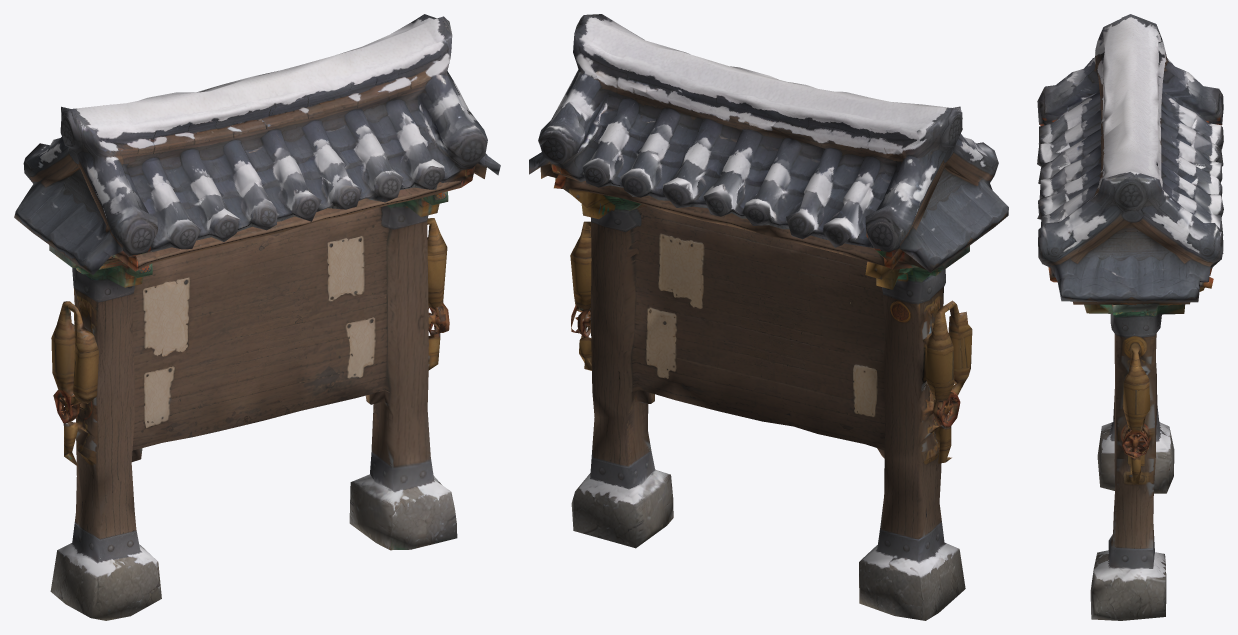
File: PR_GwaeseoBoard_02.fbx
3 renders of one model, left to right at view 1: azimuth 30°, elevation 25°; view 2: azimuth 150°, elevation 25°; view 3: azimuth 270°, elevation 25°, orthographic. The views are drawn at different scales.
Visible parts, largest first — view 1: texture_mapping; view 2: texture_mapping; view 3: texture_mapping.
Part boxes in pixels (x1,y1,x2,y2): texture_mapping: [14, 14, 500, 620]; texture_mapping: [529, 14, 1008, 620]; texture_mapping: [1037, 14, 1223, 620].
Size of the model in its own units: 0.8543 by 0.3749 by 1.
Materials: 1 (1 with a texture image).
